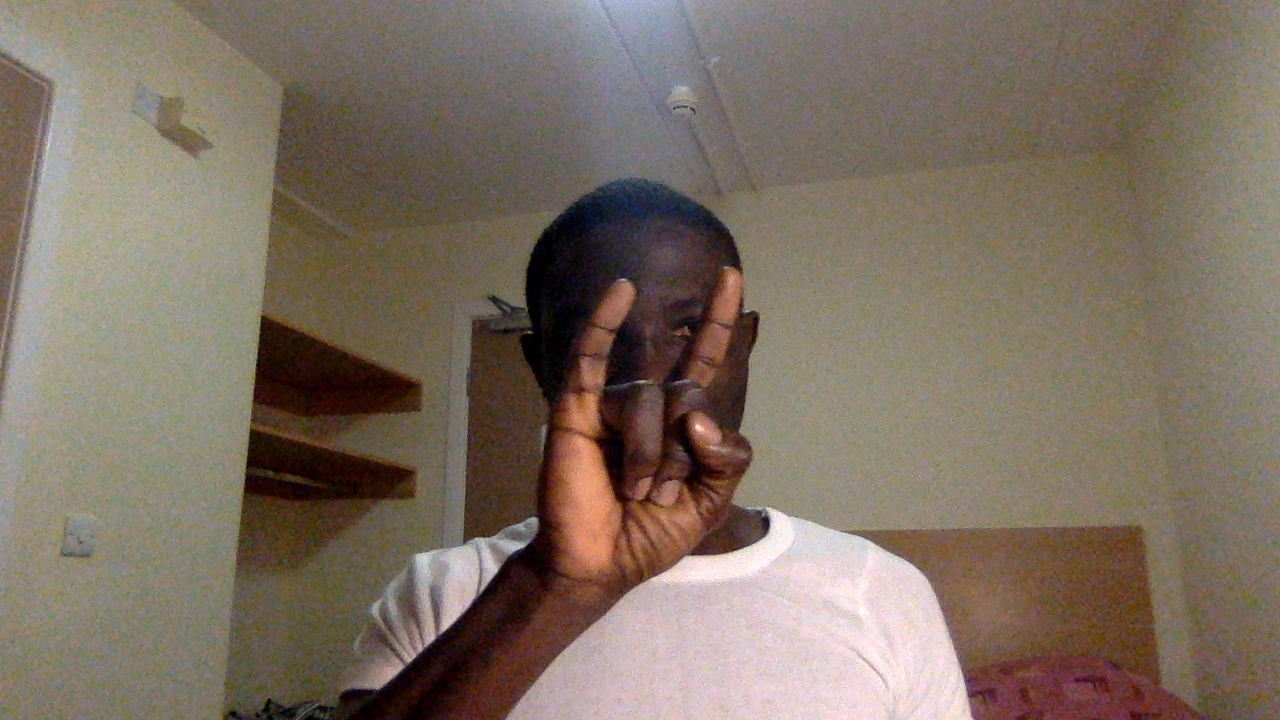I Love You: (530, 259, 770, 590)
